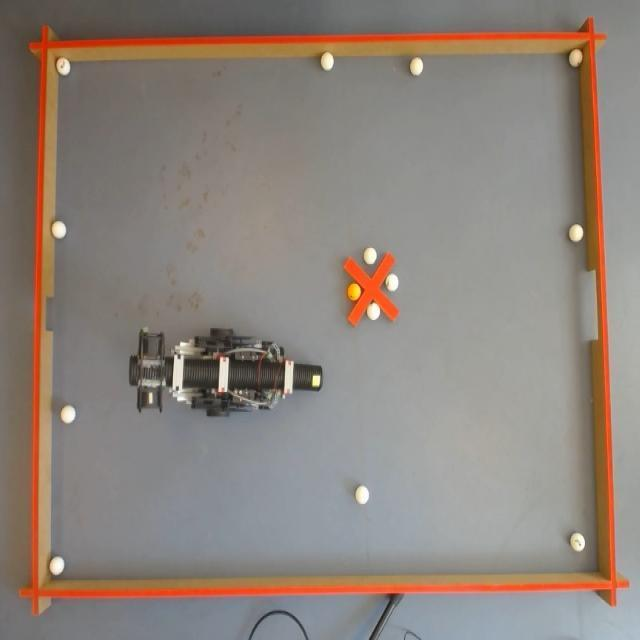orange: (346, 285, 361, 303)
robot: (134, 328, 309, 431)
white: (384, 274, 401, 291), (570, 534, 586, 552), (51, 554, 64, 576), (52, 220, 66, 240), (319, 50, 333, 70), (410, 56, 424, 76), (356, 484, 369, 505), (61, 406, 75, 424), (570, 224, 584, 242), (364, 246, 377, 264), (368, 301, 379, 322), (570, 49, 582, 66), (58, 57, 68, 75)
